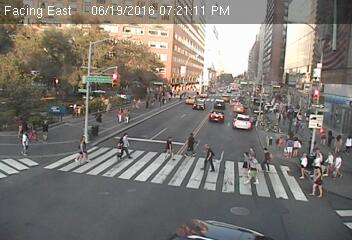neg: (101, 22, 121, 49), (329, 58, 346, 82), (176, 102, 193, 124), (155, 33, 172, 55), (291, 34, 307, 55), (36, 44, 52, 65), (205, 99, 219, 117), (230, 49, 243, 66)
pos: (71, 132, 96, 166), (309, 166, 332, 196), (292, 149, 315, 179), (244, 154, 266, 185), (113, 130, 135, 160), (13, 129, 33, 156), (199, 142, 219, 169), (329, 152, 349, 179), (257, 145, 277, 171), (159, 134, 178, 159), (184, 129, 201, 152), (38, 118, 55, 140), (324, 127, 339, 147), (283, 136, 298, 156), (112, 102, 125, 120)
